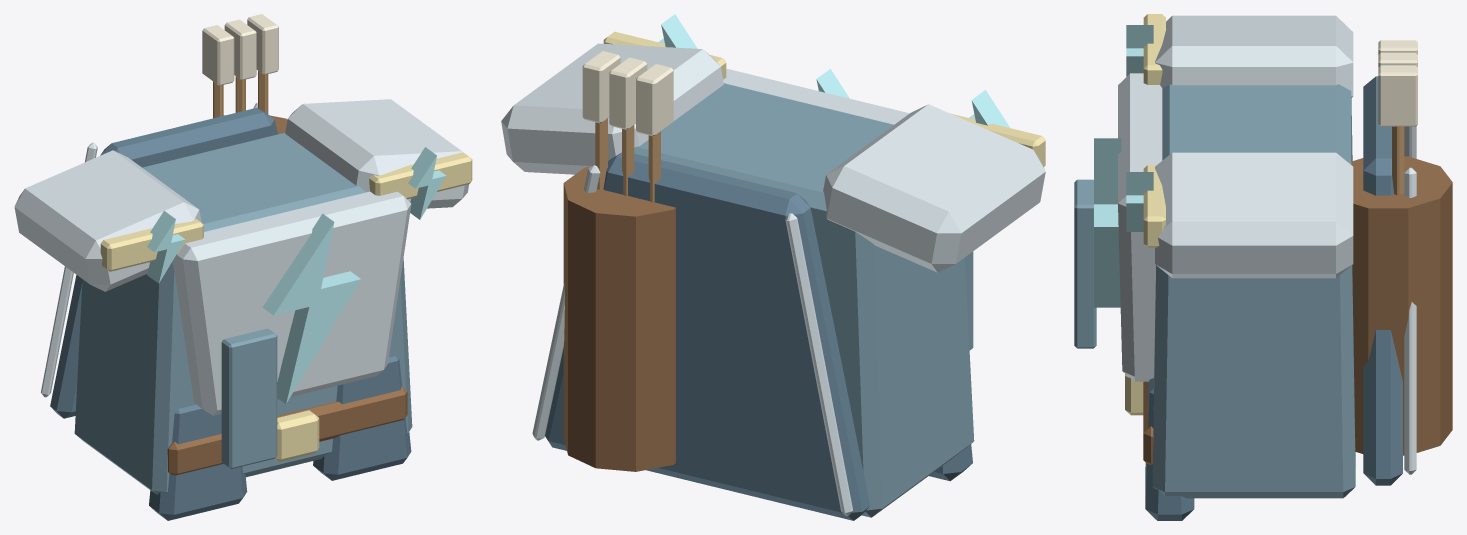
Rendered from Storm_Archer_Torso.fbx.
The picture shows the model from 3 angles, left to right: view 1: azimuth 30°, elevation 25°; view 2: azimuth 150°, elevation 25°; view 3: azimuth 270°, elevation 25°; orthographic projection. The views are drawn at different scales.
Visible parts, largest first — view 1: Storm_Archer_Torso; view 2: Storm_Archer_Torso; view 3: Storm_Archer_Torso.
Part boxes in pixels (left/top/right/bottom): Storm_Archer_Torso: left=14, top=14, right=472, bottom=520; Storm_Archer_Torso: left=501, top=14, right=1045, bottom=520; Storm_Archer_Torso: left=1074, top=14, right=1452, bottom=520.
Size of the model in its own units: 104 by 96 by 76.25.
